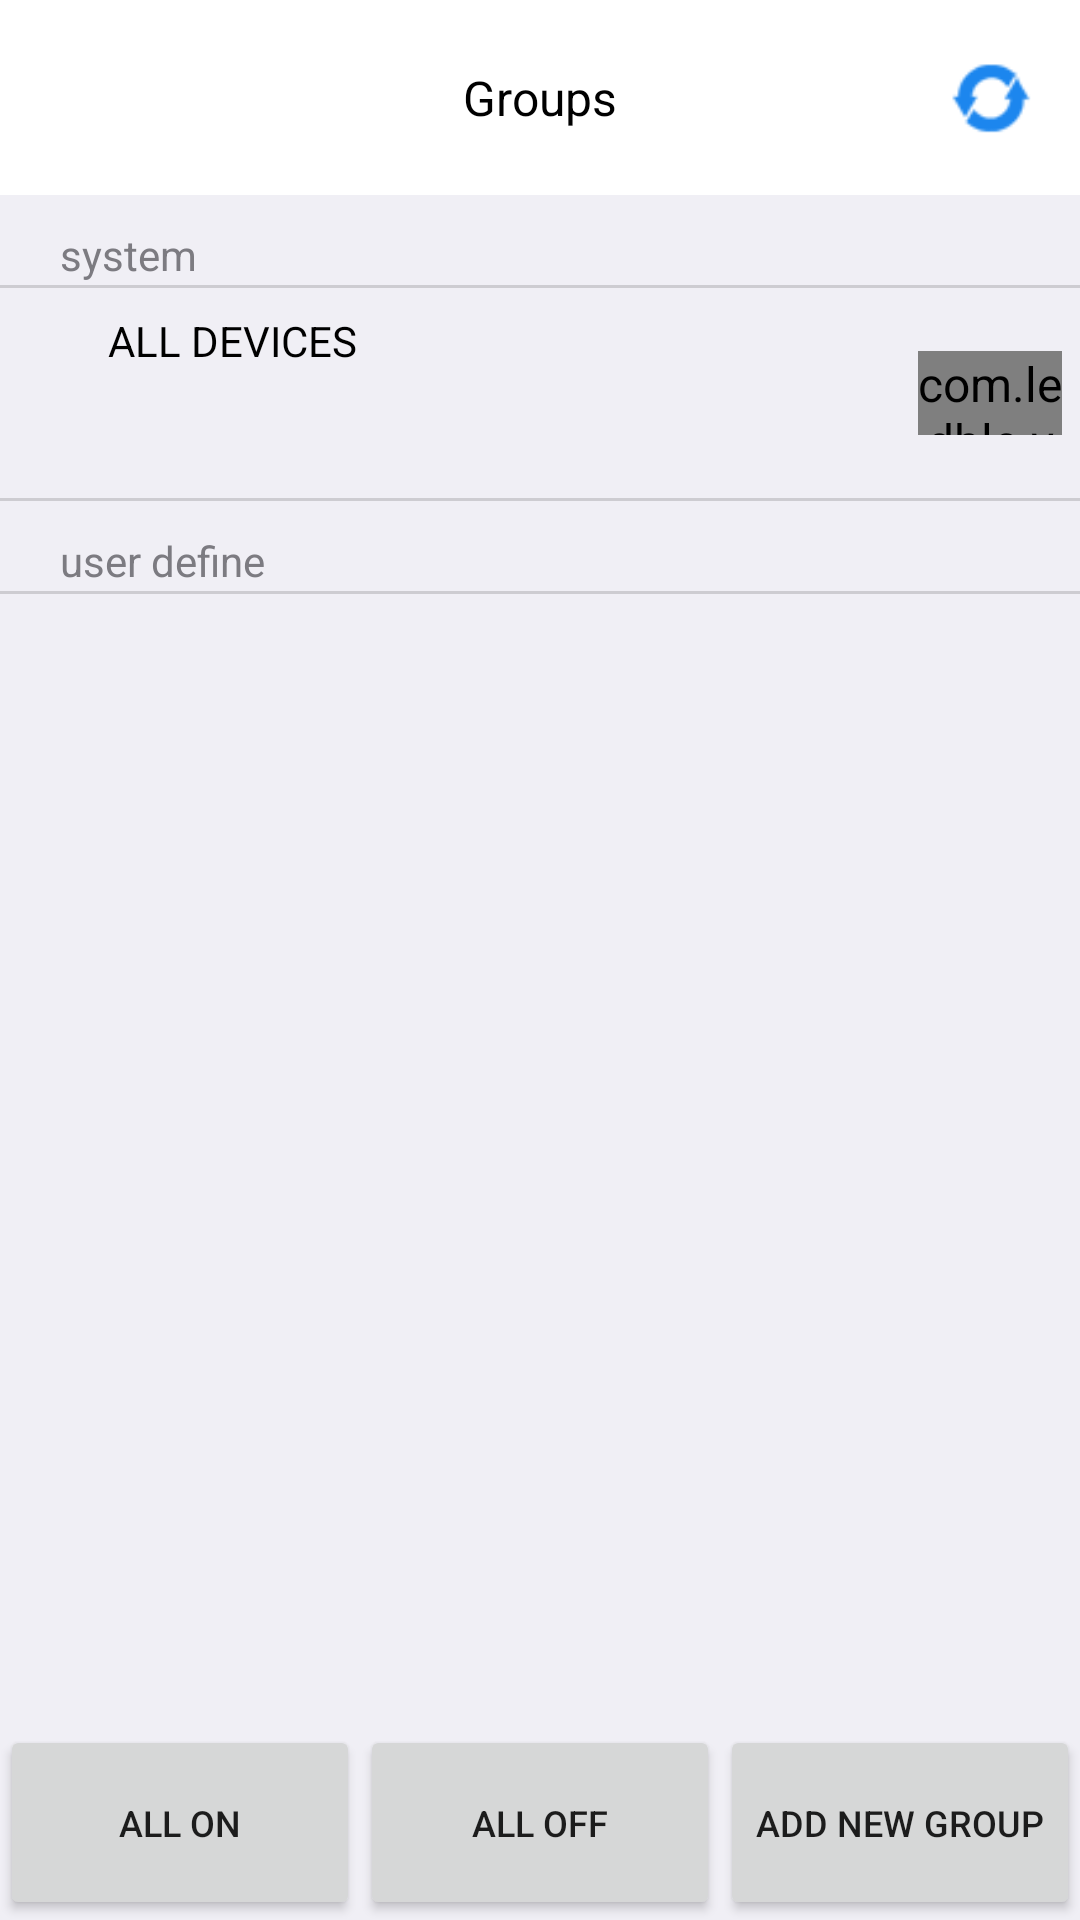

Point at icon controls on the screen. Image size 1080*1920, points as (x=x, y=y).
refresh: (x=991, y=98)
